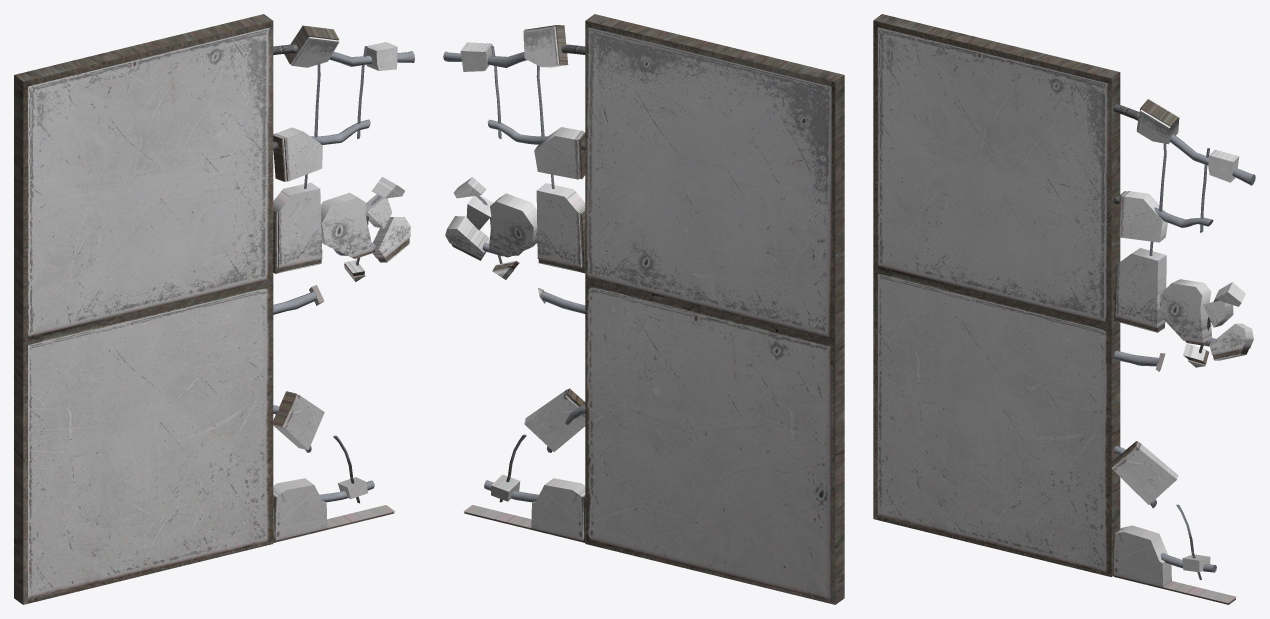
File: pG_wall_05.fbx
3 renders of one model, left to right at view 1: azimuth 30°, elevation 25°; view 2: azimuth 150°, elevation 25°; view 3: azimuth 330°, elevation 25°, orthographic. The views are drawn at different scales.
Parts seen in each view (by area): view 1: pG_wall_05; view 2: pG_wall_05; view 3: pG_wall_05.
Boxes of the visible parts, box(x1,y1,x2,y2) form: pG_wall_05: box(14, 14, 414, 604); pG_wall_05: box(443, 14, 844, 604); pG_wall_05: box(873, 14, 1255, 604).
Bounding box in the file's own units: 158 × 200 × 13.78.
Materials: 2 (2 with a texture image).
